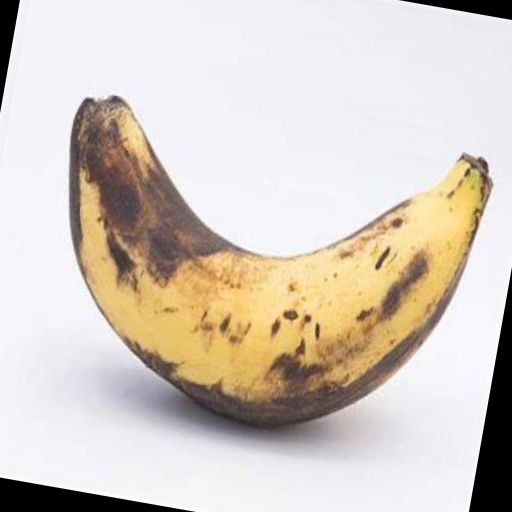fruit: (69, 97, 492, 425)
